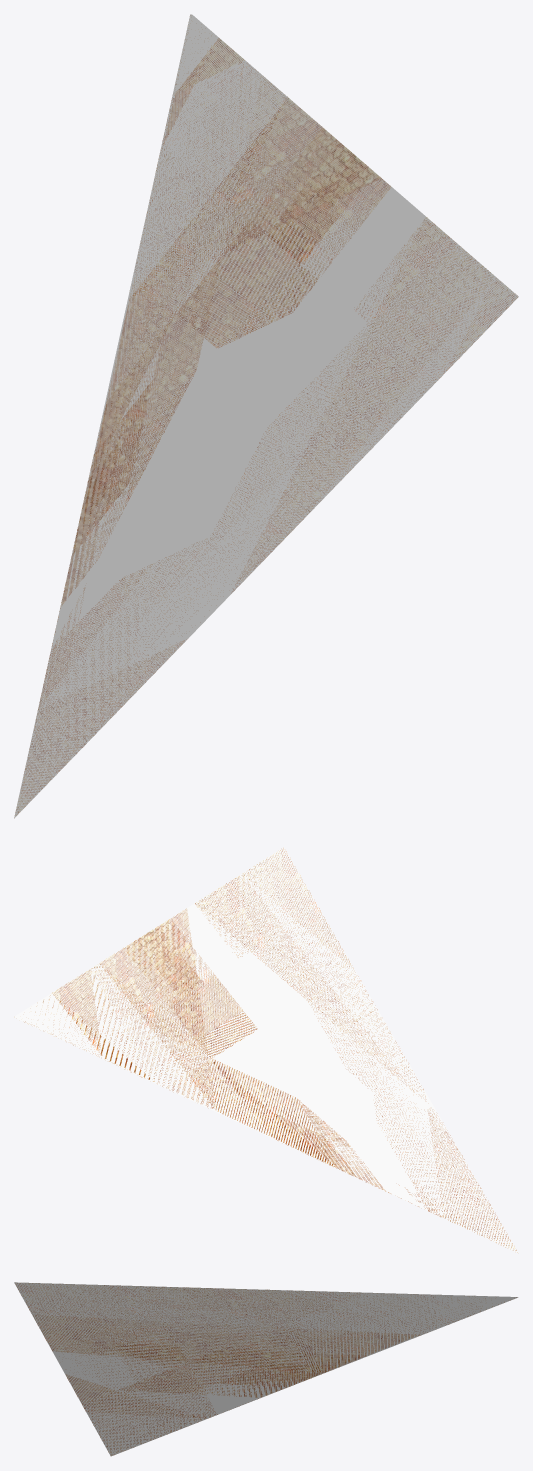
The model's file is 西庸城堡358.dae.
The picture shows the model from 3 angles, top to bottom: view 1: azimuth 30°, elevation 25°; view 2: azimuth 150°, elevation 25°; view 3: azimuth 270°, elevation 25°; orthographic projection. The views are drawn at different scales.
Parts seen in each view (by area): view 1: SketchUp; view 2: SketchUp; view 3: SketchUp.
Part boxes in pixels (x1,y1,x2,y2): SketchUp: (14, 14, 518, 818); SketchUp: (14, 847, 518, 1253); SketchUp: (14, 1282, 518, 1456).
Bounding box in the file's own units: 294 × 397 × 276.
